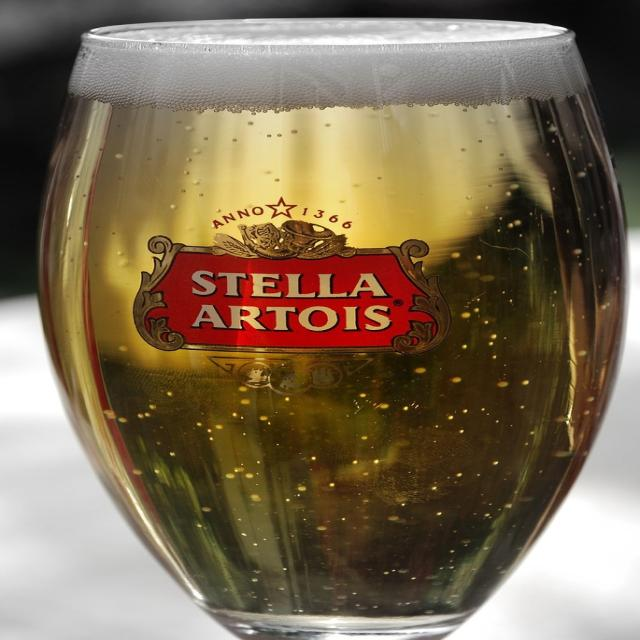stellaartois: (130, 194, 452, 396)
